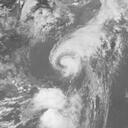cyclone: (49, 40, 82, 75)
